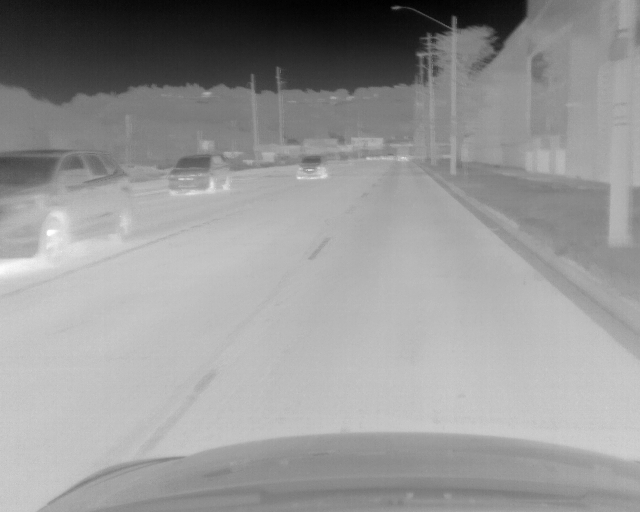car: (1, 146, 141, 261), (166, 154, 231, 196), (297, 155, 324, 179)
